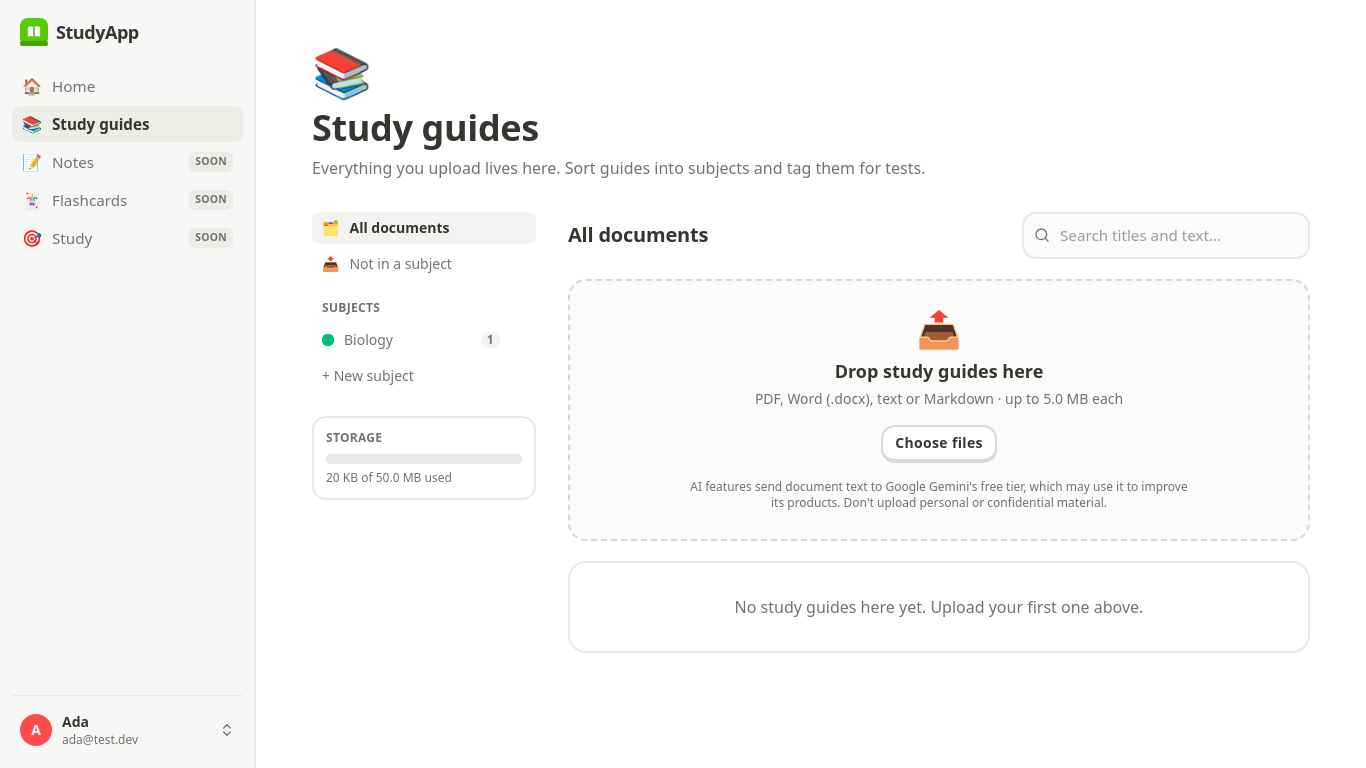
Test: library page › filters by subject using the URL
Click the button "Biology 1".
click(411, 340)  # box [312, 324, 510, 356]
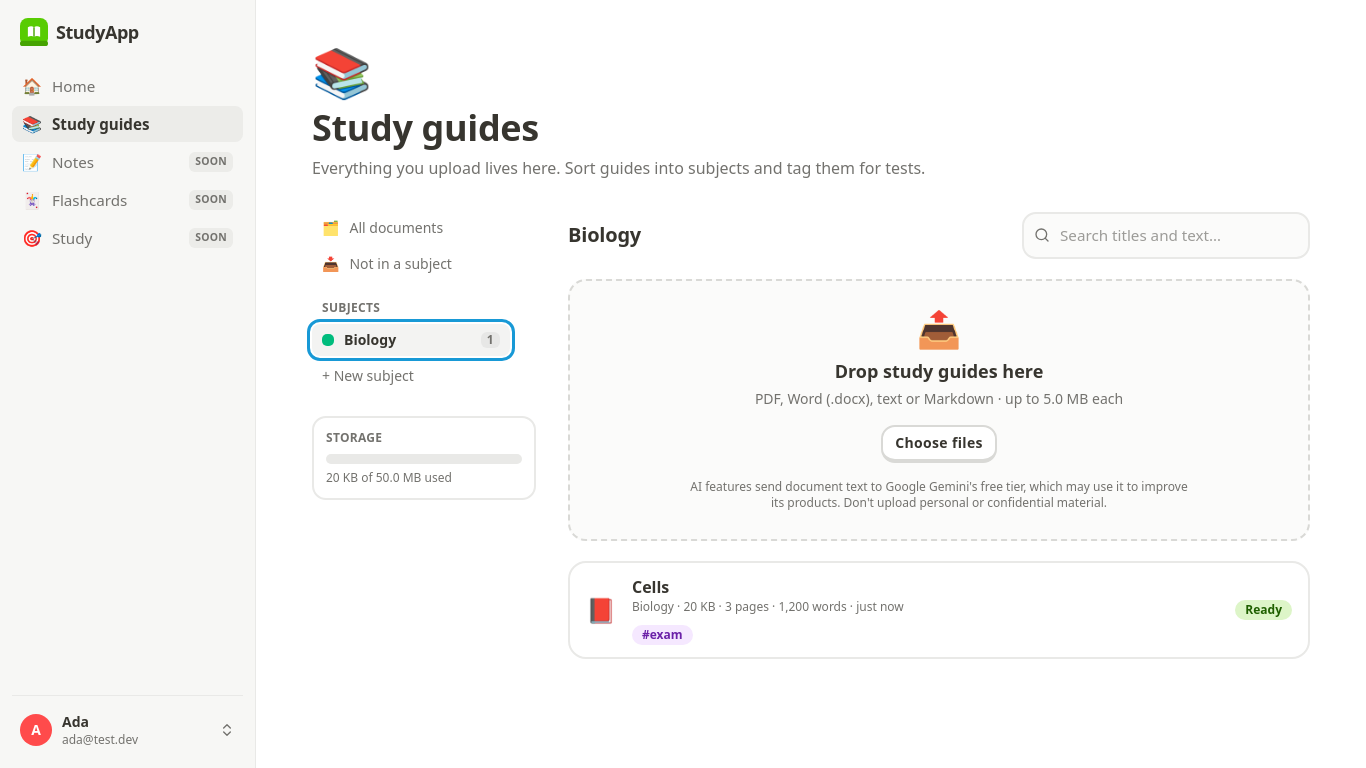
Check: the heading "Biology" is shown, box [568, 221, 641, 249]
